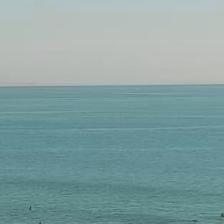surfer: (188, 219, 198, 222), (28, 206, 32, 211), (221, 212, 223, 217), (39, 221, 43, 223)
